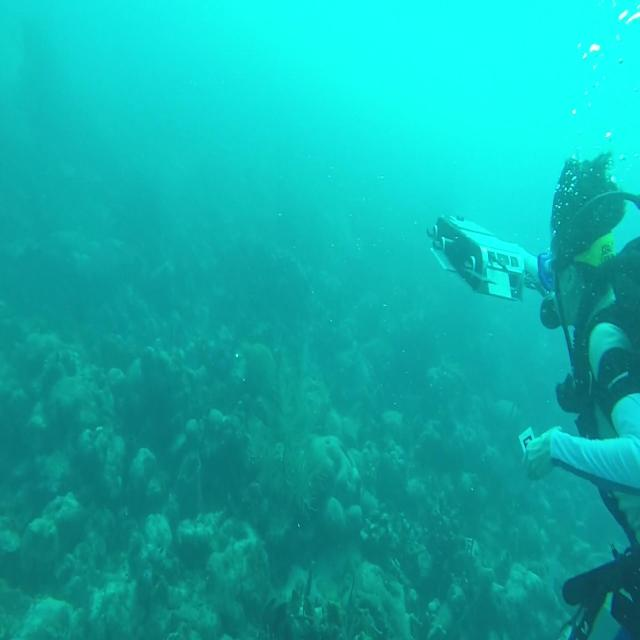human: (519, 149, 639, 638)
